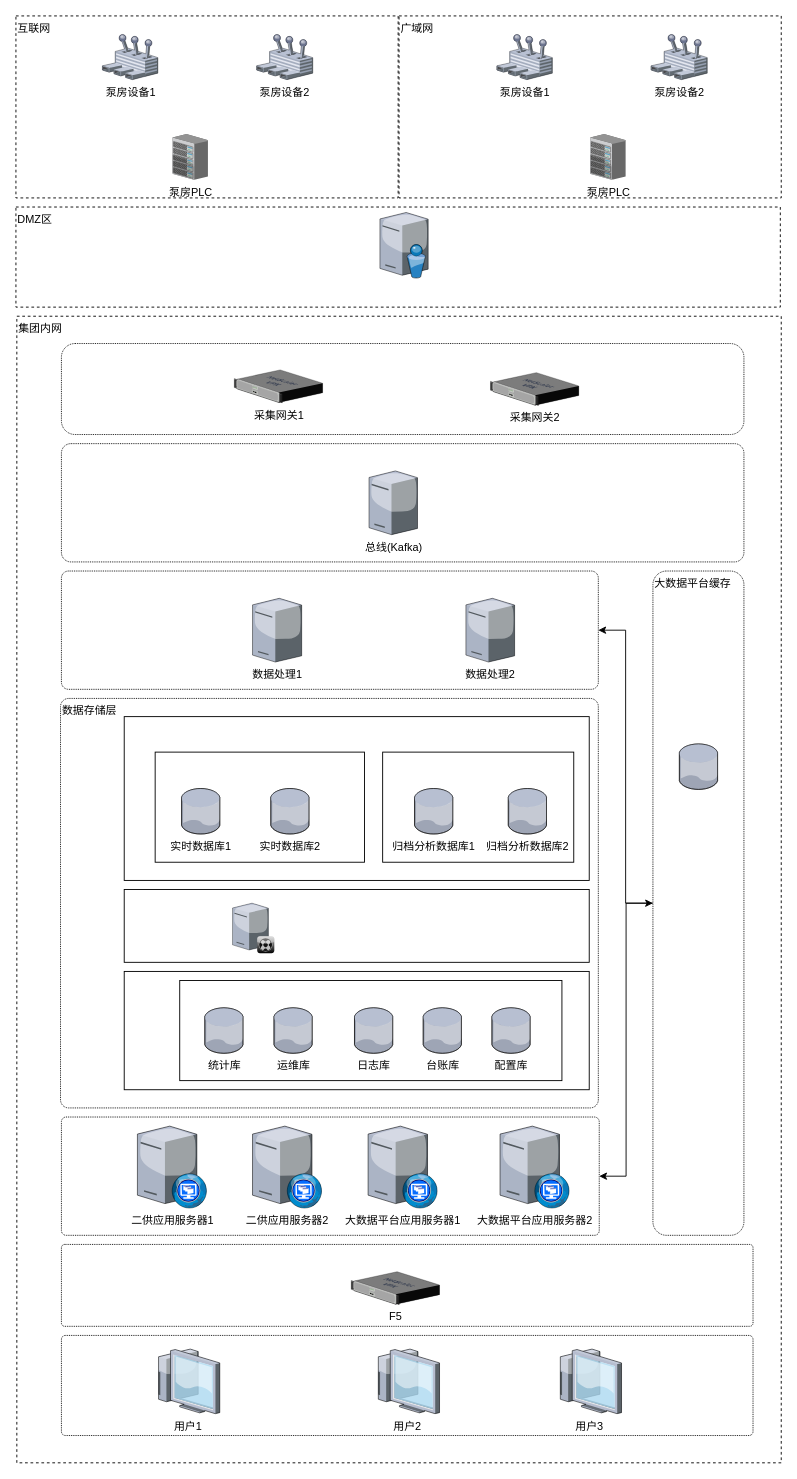
Some shapes in this 797 by 1479 pixel diagram are drawn without their labels. Here are the shapes that lost their labels. From the top down, the box of each, then its label:
(379, 212, 428, 278): Nginx代理服务器
(61, 343, 744, 435): 内网采集网关区
(61, 443, 744, 562): 数据总线层
(61, 570, 598, 689): 数据处理层(微服务容器)
(679, 743, 718, 789): Redis
(154, 751, 364, 862): Mongodb集群
(123, 716, 589, 880): 大数据平台
(382, 751, 574, 862): Oracle主备
(123, 889, 589, 962): ETL数据统计
(123, 971, 589, 1090): 二供系统
(179, 980, 562, 1081): Oracle数据库
(61, 1116, 599, 1235): 系统应用层
(61, 1244, 753, 1326): 负载均衡
(61, 1335, 753, 1436): 系统展现层
